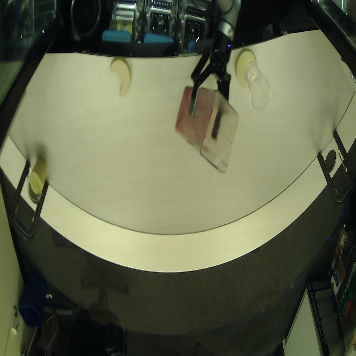empty_cup: (245, 62, 271, 112)
full_cup: (26, 157, 48, 204)
puck: (109, 56, 132, 97), (233, 48, 256, 86)
